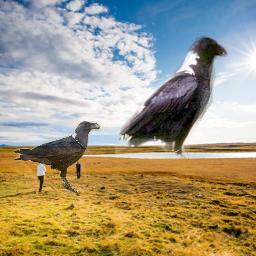Crow: (115, 32, 228, 158), (13, 121, 101, 194)
